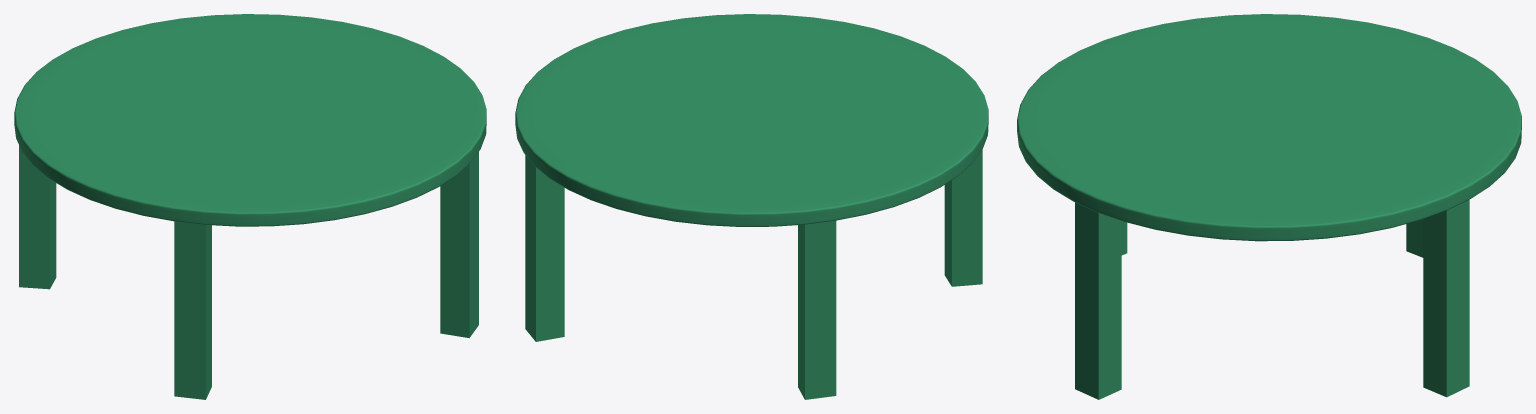
The model's file is playtable.FBX.
The picture shows the model from 3 angles, left to right: view 1: azimuth 30°, elevation 25°; view 2: azimuth 150°, elevation 25°; view 3: azimuth 270°, elevation 25°; orthographic projection. The views are drawn at different scales.
Visible parts, largest first — view 1: PlayTable; view 2: PlayTable; view 3: PlayTable.
Boxes of the visible parts, bbox=[...] form: PlayTable: bbox=[14, 14, 486, 399]; PlayTable: bbox=[515, 14, 988, 399]; PlayTable: bbox=[1017, 14, 1521, 399].
Bounding box in the file's own units: 59.95 × 26.53 × 59.95.
